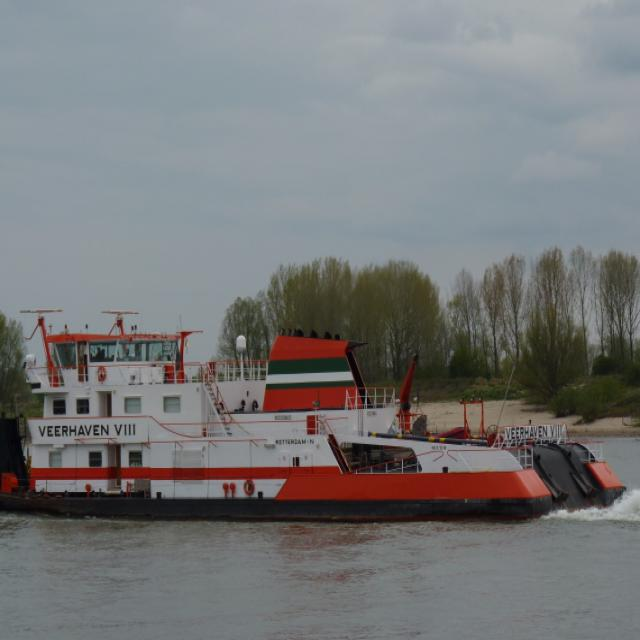tugboat: (1, 303, 632, 536)
